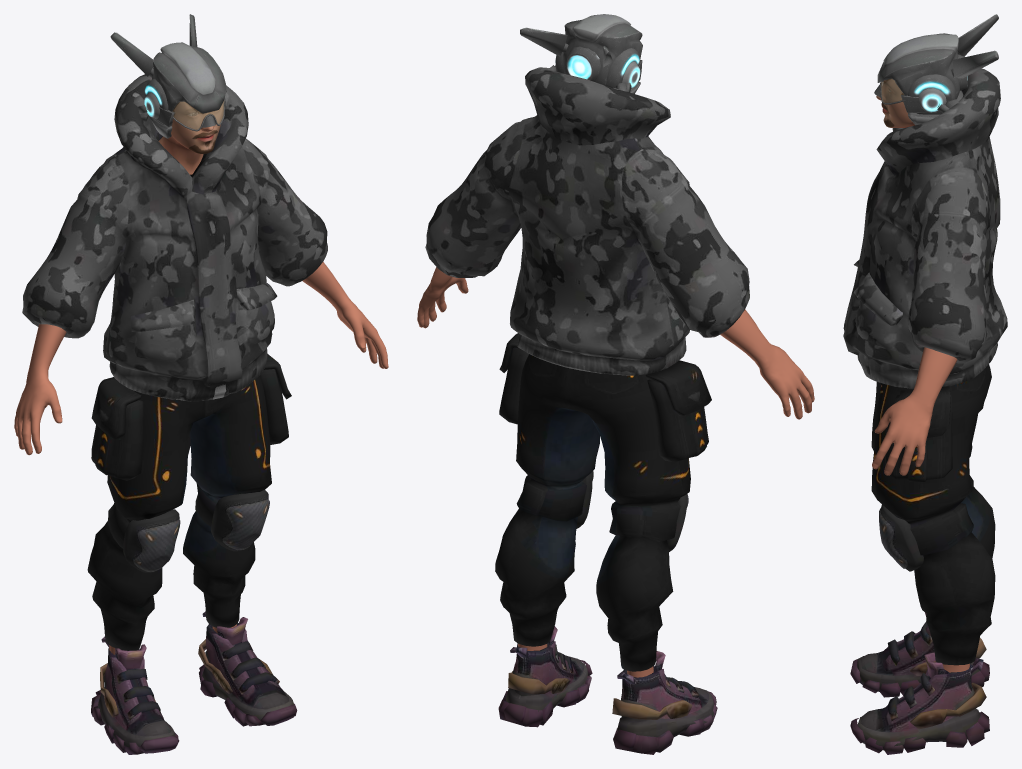
The model's file is Human.glb.
3 renders of one model, left to right at view 1: azimuth 30°, elevation 25°; view 2: azimuth 150°, elevation 25°; view 3: azimuth 270°, elevation 25°, orthographic. The views are drawn at different scales.
Visible parts, largest first — view 1: Wolf3D_Outfit_Top, Wolf3D_Outfit_Bottom, Wolf3D_Outfit_Footwear, Wolf3D_Headwear, Wolf3D_Body, Wolf3D_Head; view 2: Wolf3D_Outfit_Top, Wolf3D_Outfit_Bottom, Wolf3D_Outfit_Footwear, Wolf3D_Headwear, Wolf3D_Body; view 3: Wolf3D_Outfit_Top, Wolf3D_Outfit_Bottom, Wolf3D_Outfit_Footwear, Wolf3D_Headwear, Wolf3D_Body, Wolf3D_Head.
Boxes of the visible parts, x1,y1,x2,y2 form: Wolf3D_Outfit_Top: [22, 74, 327, 401]; Wolf3D_Outfit_Bottom: [87, 354, 291, 650]; Wolf3D_Outfit_Footwear: [91, 611, 297, 754]; Wolf3D_Headwear: [110, 14, 226, 138]; Wolf3D_Body: [14, 262, 388, 654]; Wolf3D_Head: [158, 102, 223, 174]; Wolf3D_Outfit_Top: [425, 67, 749, 375]; Wolf3D_Outfit_Bottom: [495, 333, 711, 671]; Wolf3D_Outfit_Footwear: [498, 626, 717, 754]; Wolf3D_Headwear: [520, 14, 642, 93]; Wolf3D_Body: [417, 267, 814, 677]; Wolf3D_Outfit_Top: [843, 68, 1007, 388]; Wolf3D_Outfit_Bottom: [871, 364, 995, 665]; Wolf3D_Outfit_Footwear: [850, 612, 989, 754]; Wolf3D_Headwear: [874, 14, 998, 125]; Wolf3D_Body: [872, 347, 969, 672]; Wolf3D_Head: [876, 79, 914, 127].
Bounding box in the file's own units: 1.06 × 1.88 × 0.4102.
8 materials, 8 textured.
